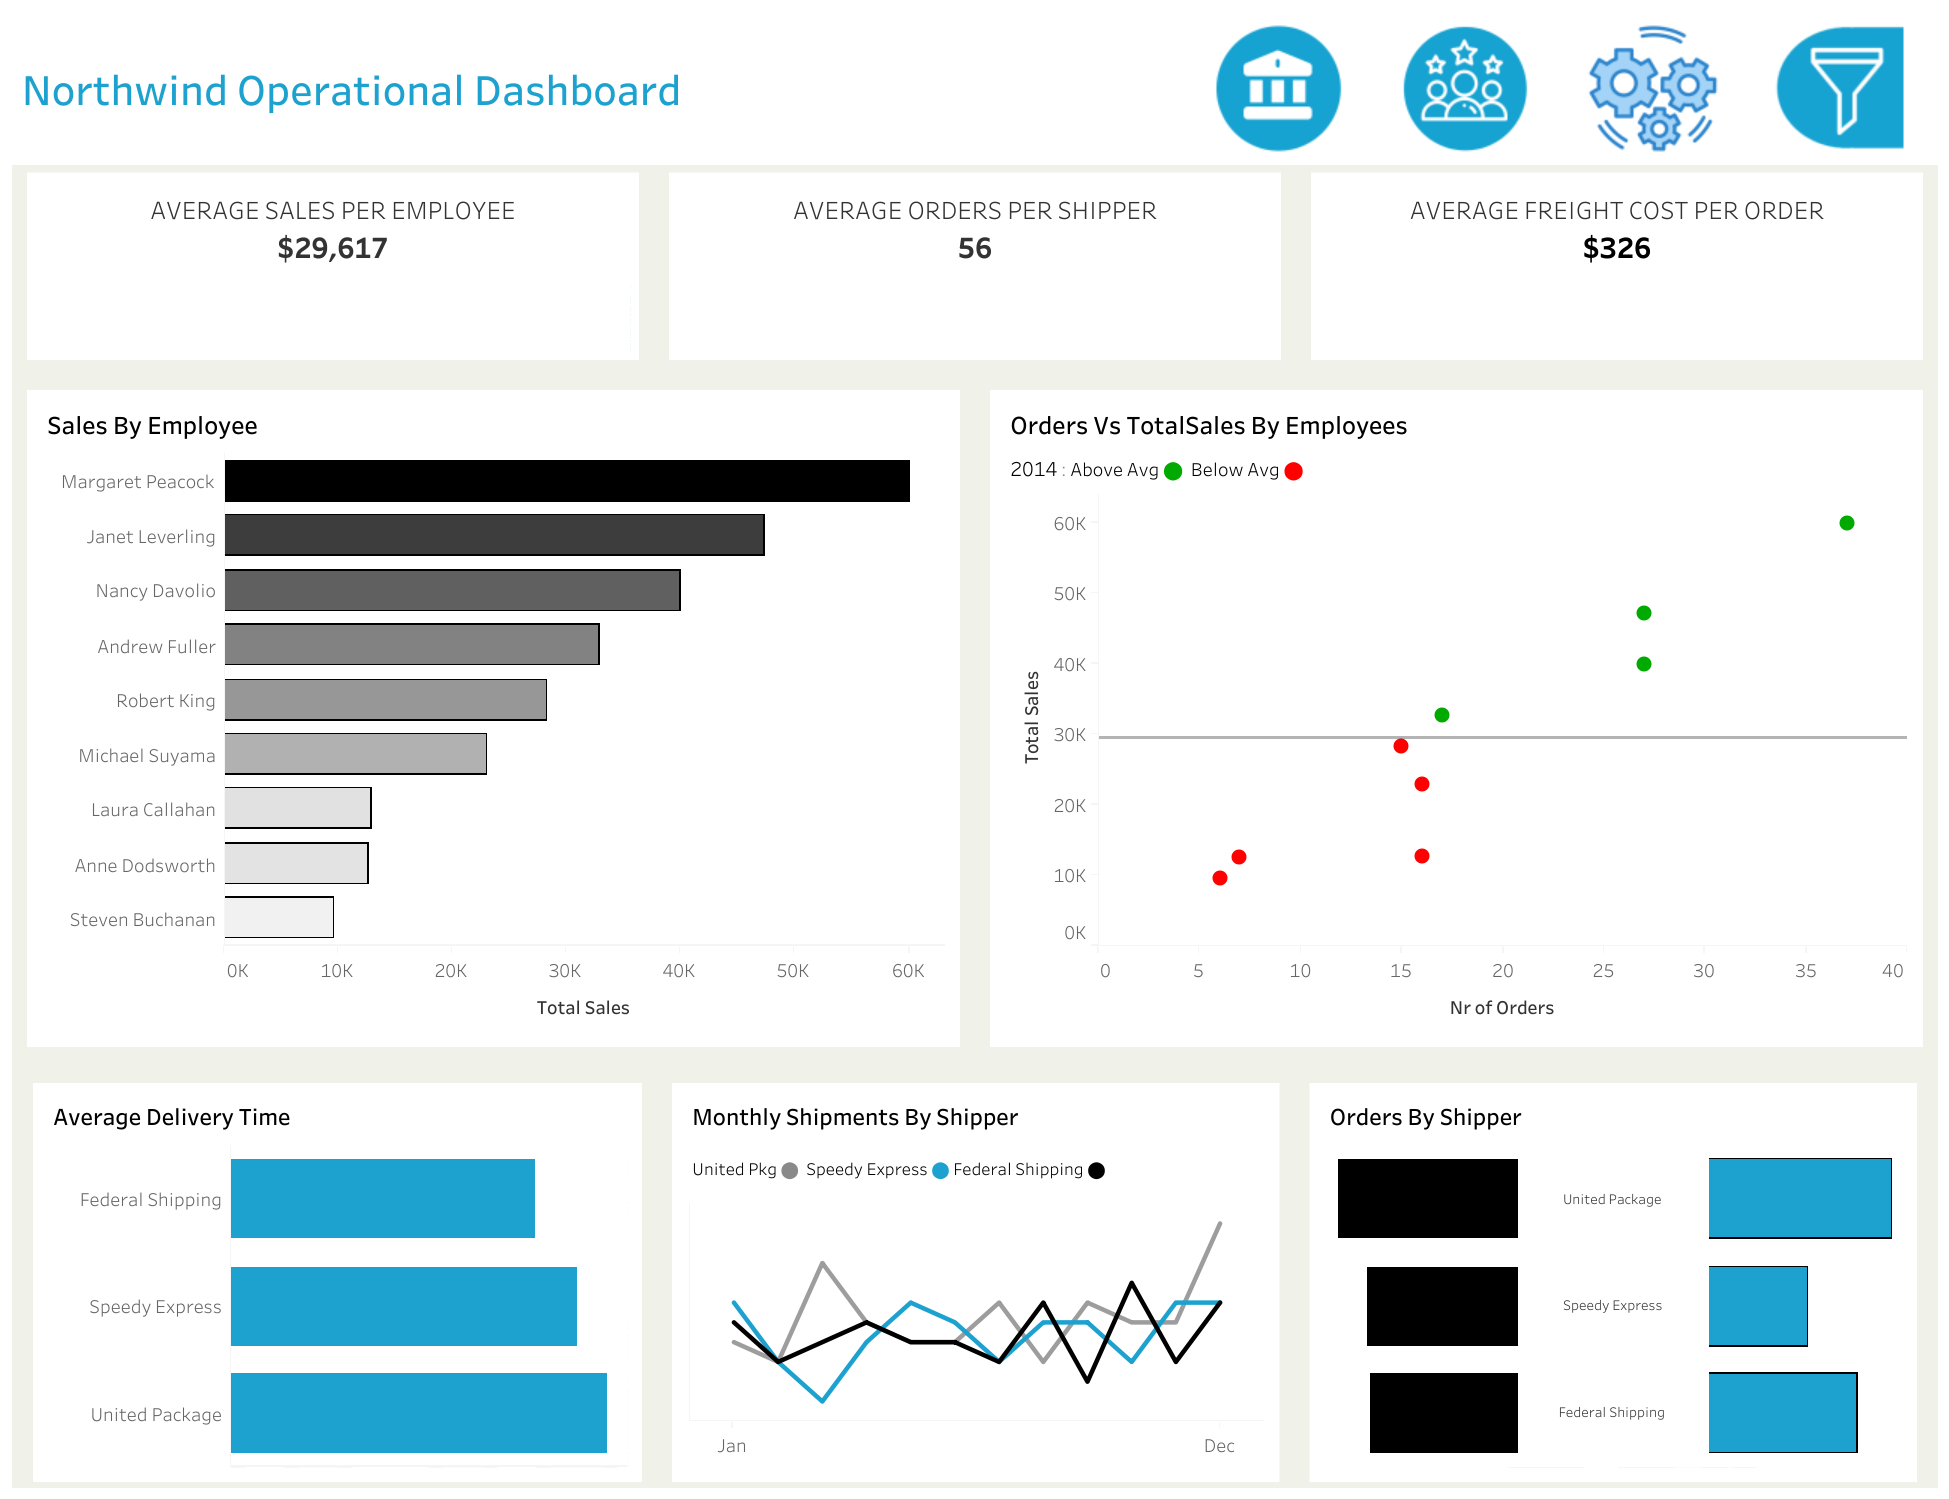

Layout of this report page (visuals, bound fields, positions):
{"tool":"tableau","page":{"name":"Operational Dashboard","canvas":[1300,1000],"ordinal":1},"visuals":[{"type":"text","box":[8,8,778,102]},{"type":"dashboard-object","box":[1050,8,82,102]},{"type":"blank","box":[1132,8,160,49]},{"type":"dashboard-object","box":[790,12,85,94]},{"type":"dashboard-object","box":[875,12,85,94]},{"type":"dashboard-object","box":[960,12,84,94]},{"type":"dashboard-object","box":[1044,12,84,94]},{"type":"text","box":[1132,57,160,41]},{"type":"blank","box":[1132,98,160,37]},{"type":"worksheet","title":"Average sales per employee","mark":"Automatic","box":[8,110,375,140]},{"type":"worksheet","title":"Average orders per shipper","mark":"Automatic","box":[383,110,375,140]},{"type":"worksheet","title":"Average Freight cost","mark":"Automatic","box":[758,110,374,140]},{"type":"parameter","param":"[Parameters].[Parameter 1]","box":[1132,135,160,60]},{"type":"filter","title":"Average Delivery time","param":"[federated.0zaqgg01ssknam11a576s00i7wnt].[none:Calculation_465559629243305995:nk","box":[1132,195,160,70]},{"type":"filter","title":"Average Delivery time","param":"[federated.0zaqgg01ssknam11a576s00i7wnt].[none:Country:nk]","box":[1132,265,160,70]},{"type":"text","box":[25,267,528,41]},{"type":"text","box":[587,267,528,41]},{"type":"worksheet","title":"Sales by  Employee","mark":"Bar","rows":["EmployeeName"],"cols":["Calculation_465559629226438659"],"box":[25,308,528,382.9]},{"type":"text","box":[587,308,528,36]},{"type":"filter","title":"Average Delivery time","param":"[federated.0zaqgg01ssknam11a576s00i7wnt].[none:ShipperName:nk]","box":[1132,335,160,70]},{"type":"worksheet","title":"Orders Vs TotalSales By Employees","mark":"Circle","rows":["Calculation_465559629226438659"],"cols":["Calculation_1051872006598950912"],"box":[587,344,528,347]},{"type":"filter","title":"Sales by  Employee","param":"[federated.0zaqgg01ssknam11a576s00i7wnt].[none:EmployeeName:nk]","box":[1132,405,160,70]},{"type":"text","box":[29,729,338,38]},{"type":"text","box":[401,729,338,38]},{"type":"text","box":[773,729,338,38]},{"type":"worksheet","title":"Average Delivery time","mark":"Bar","rows":["Calculation_1043709235465424896"],"cols":["Calculation_1347139260898840576"],"box":[29,767,338,214]},{"type":"text","box":[401,767,338,39]},{"type":"worksheet","title":"Orders by shipper","mark":"Bar","rows":["Calculation_1043709235465424896"],"cols":["Calculation_1051872006598950912","Calculation_1043709235477696518","FreightCost"],"box":[773,767,338,214]},{"type":"worksheet","title":"Monthly shipments by shipper","mark":"Line","rows":["Calculation_1051872006598950912"],"cols":["OrderDate"],"box":[401,806,338,175]}]}

Visuals, with their boxes in screenshot pixels (x1, y1, x2, y2), scaled from the page's 1300x1000 canvas onto the 1949x1499 screenshot:
text: 12,12,1178,165
dashboard-object: 1574,12,1697,165
blank: 1697,12,1937,85
dashboard-object: 1184,18,1312,159
dashboard-object: 1312,18,1439,159
dashboard-object: 1439,18,1565,159
dashboard-object: 1565,18,1691,159
text: 1697,85,1937,147
blank: 1697,147,1937,202
"Average sales per employee" worksheet: 12,165,574,375
"Average orders per shipper" worksheet: 574,165,1136,375
"Average Freight cost" worksheet: 1136,165,1697,375
parameter: 1697,202,1937,292
"Average Delivery time" filter: 1697,292,1937,397
"Average Delivery time" filter: 1697,397,1937,502
text: 37,400,829,462
text: 880,400,1672,462
"Sales by  Employee" worksheet (Bar marks): 37,462,829,1036
text: 880,462,1672,516
"Average Delivery time" filter: 1697,502,1937,607
"Orders Vs TotalSales By Employees" worksheet (Circle marks): 880,516,1672,1036
"Sales by  Employee" filter: 1697,607,1937,712
text: 43,1093,550,1150
text: 601,1093,1108,1150
text: 1159,1093,1666,1150
"Average Delivery time" worksheet (Bar marks): 43,1150,550,1471
text: 601,1150,1108,1208
"Orders by shipper" worksheet (Bar marks): 1159,1150,1666,1471
"Monthly shipments by shipper" worksheet (Line marks): 601,1208,1108,1471
